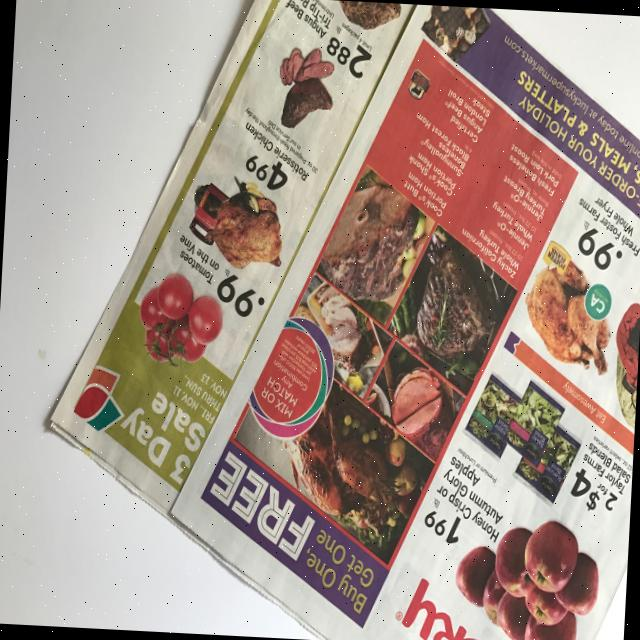paper: (37, 0, 640, 640)
